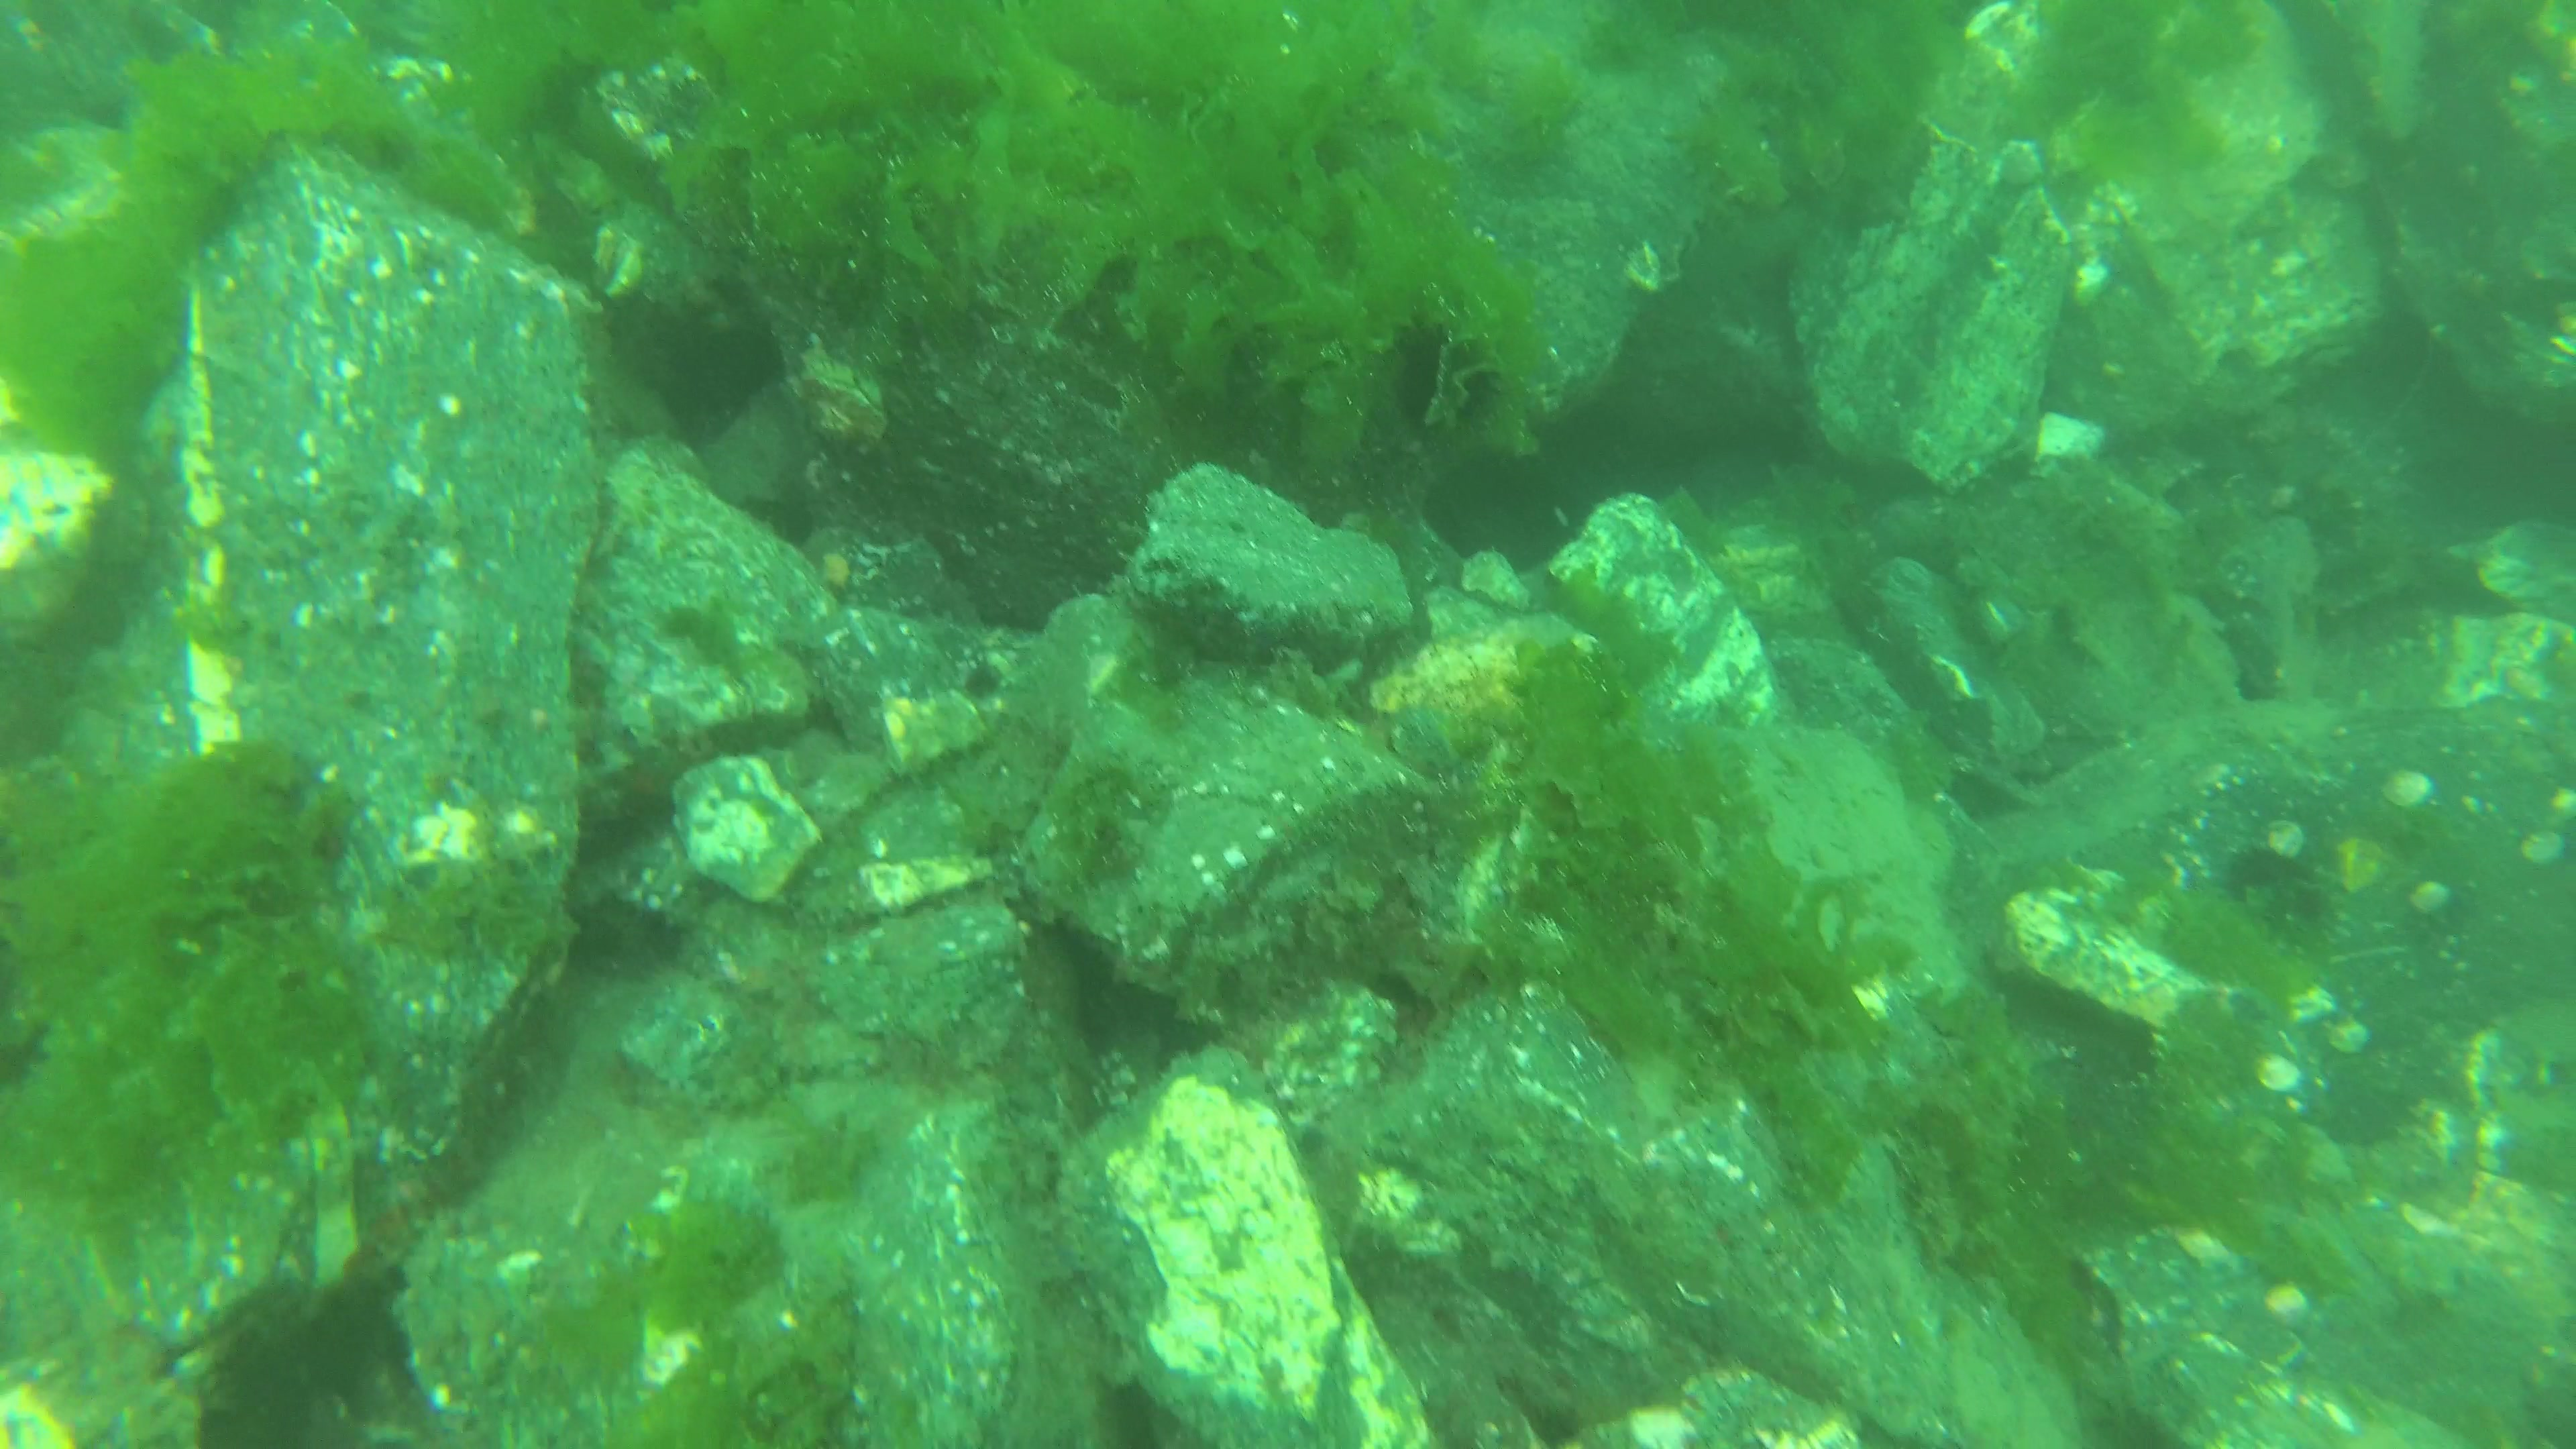echinus: (1382, 317, 1506, 435), (2227, 847, 2328, 941)
